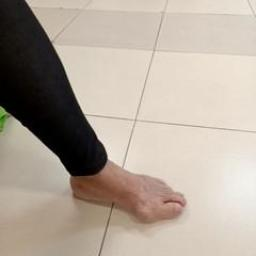Medial View -Left Foot-: (50, 143, 208, 237)
